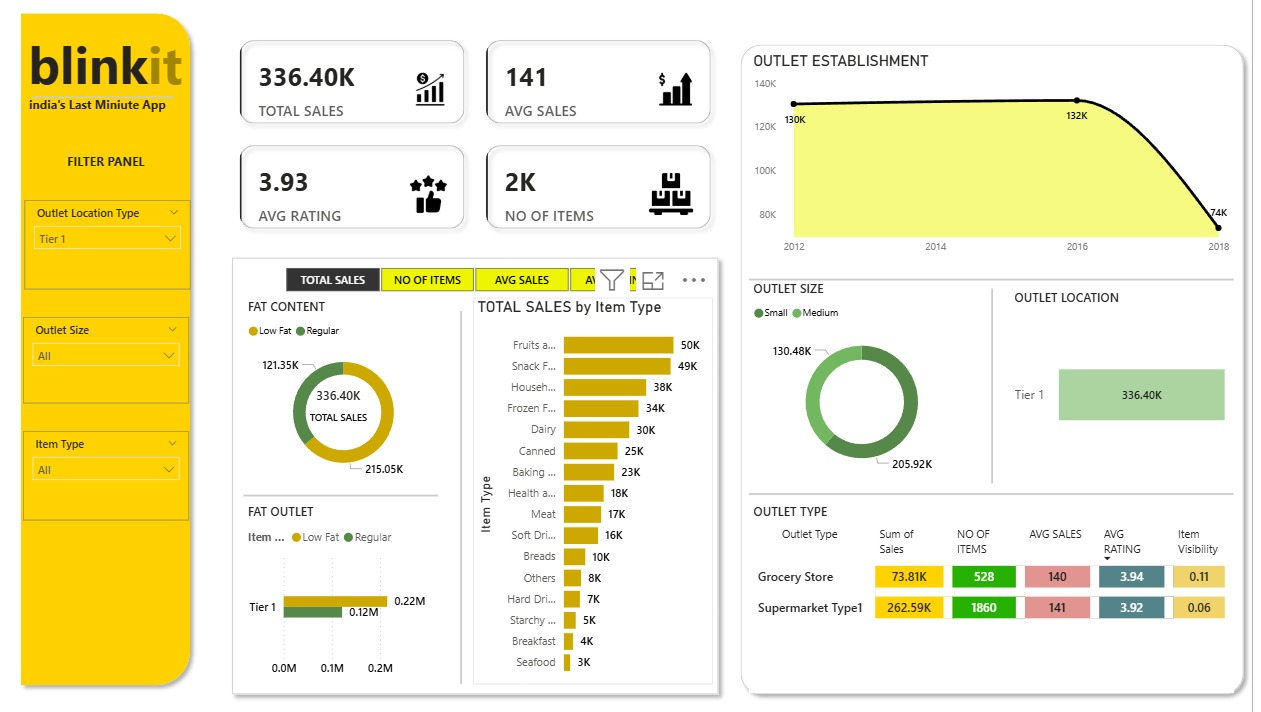

The dashboard page shown, as its layout file describes it:
{"tool":"powerbi","page":{"name":"Page 1","canvas":[1400,800],"ordinal":0},"visuals":[{"type":"shape","box":[31.7,16.7,205,760],"z":0},{"type":"textbox","box":[45,111.7,171.7,48.3],"z":1000},{"type":"cardVisual","fields":{"Data":["BlinkIT Grocery Data.total sales","BlinkIT Grocery Data.avg sales","BlinkIT Grocery Data.Avg rating","BlinkIT Grocery Data.no of items"]},"box":[265,38.3,555,243.3],"z":2000},{"type":"shape","box":[265,286.5,554.8,500.2],"z":3000},{"type":"donutChart","title":"FAT CONTENT","fields":{"Y":["BlinkIT Grocery Data.TOTAL SALES"],"Category":["BlinkIT Grocery Data.Item Fat Content"]},"box":[286.7,340,220,208.3],"z":4000},{"type":"slicer","fields":{"Values":["Parameter.Parameter"]},"box":[308,299.8,465.4,39.7],"z":5000},{"type":"cardVisual","fields":{"Data":["BlinkIT Grocery Data.TOTAL SALES"]},"box":[326.7,420,130,71.7],"z":6000},{"type":"clusteredBarChart","title":"FAT OUTLET","fields":{"Y":["BlinkIT Grocery Data.TOTAL SALES"],"Category":["BlinkIT Grocery Data.Outlet Location Type"],"Series":["BlinkIT Grocery Data.Item Fat Content"]},"box":[286.7,566.7,220,200],"z":7000},{"type":"shape","box":[286.7,546.7,215,23.3],"z":8000},{"type":"shape","box":[506.7,355,40,411.7],"z":9000},{"type":"barChart","fields":{"Y":["BlinkIT Grocery Data.TOTAL SALES"],"Category":["BlinkIT Grocery Data.Item Type"]},"box":[540,340,265,426.7],"z":10000},{"type":"shape","box":[826.7,51.7,573.3,735],"z":11000},{"type":"lineChart","title":"OUTLET ESTABLISHMENT","fields":{"Category":["BlinkIT Grocery Data.Outlet Establishment Year"],"Y":["BlinkIT Grocery Data.TOTAL SALES"]},"box":[845,68.3,535,231.7],"z":12000},{"type":"shape","box":[845,310,535,20],"z":13000},{"type":"donutChart","title":"OUTLET SIZE","fields":{"Y":["BlinkIT Grocery Data.TOTAL SALES"],"Category":["BlinkIT Grocery Data.Outlet Size"]},"box":[845,320,248.3,225],"z":14000},{"type":"shape","box":[1093.3,330,40,215],"z":15000},{"type":"funnel","title":"OUTLET LOCATION","fields":{"Y":["Sum(BlinkIT Grocery Data.Sales)"],"Category":["BlinkIT Grocery Data.Outlet Location Type"]},"box":[1133.3,330,246.7,215],"z":16000},{"type":"shape","box":[845,546.7,535,20],"z":17000},{"type":"pivotTable","title":"OUTLET TYPE","fields":{"Values":["Sum(BlinkIT Grocery Data.Sales)","BlinkIT Grocery Data.NO OF ITEMS","BlinkIT Grocery Data.AVG SALES","BlinkIT Grocery Data.AVG RATING","Avg(BlinkIT Grocery Data.Item Visibility)"],"Rows":["BlinkIT Grocery Data.Outlet Type"]},"box":[845,566.7,535,210],"z":18000},{"type":"slicer","fields":{"Values":["BlinkIT Grocery Data.Outlet Location Type"]},"box":[45,231.7,183.3,98.3],"z":19000},{"type":"slicer","fields":{"Values":["BlinkIT Grocery Data.Outlet Size"]},"box":[43.3,361.7,183.3,95],"z":20000},{"type":"slicer","fields":{"Values":["BlinkIT Grocery Data.Item Type"]},"box":[43.3,486.7,183.3,98.3],"z":21000},{"type":"textbox","box":[53.3,173.3,163.3,33.3],"z":22000},{"type":"textbox","box":[38.3,38.3,191.7,88.3],"z":23000},{"type":"shape","box":[53.3,111.7,156.7,15],"z":24000}]}

Visuals, with their boxes in screenshot pixels (x1, y1, x2, y2), scaled from the page's 1400x800 canvas onto the 1261x712 screenshot:
shape: 29/15/213/691
textbox: 41/99/195/142
cardVisual - BlinkIT Grocery Data.total sales x BlinkIT Grocery Data.avg sales: 239/34/739/251
shape: 239/255/738/700
"FAT CONTENT" donutChart: 258/303/456/488
slicer - Parameter.Parameter: 277/267/697/302
cardVisual - BlinkIT Grocery Data.TOTAL SALES: 294/374/411/438
"FAT OUTLET" clusteredBarChart: 258/504/456/682
shape: 258/487/452/507
shape: 456/316/492/682
barChart - BlinkIT Grocery Data.TOTAL SALES x BlinkIT Grocery Data.Item Type: 486/303/725/682
shape: 745/46/1260/700
"OUTLET ESTABLISHMENT" lineChart: 761/61/1243/267
shape: 761/276/1243/294
"OUTLET SIZE" donutChart: 761/285/985/485
shape: 985/294/1021/485
"OUTLET LOCATION" funnel: 1021/294/1243/485
shape: 761/487/1243/504
"OUTLET TYPE" pivotTable: 761/504/1243/691
slicer - BlinkIT Grocery Data.Outlet Location Type: 41/206/206/294
slicer - BlinkIT Grocery Data.Outlet Size: 39/322/204/406
slicer - BlinkIT Grocery Data.Item Type: 39/433/204/521
textbox: 48/154/195/184
textbox: 34/34/207/113
shape: 48/99/189/113
